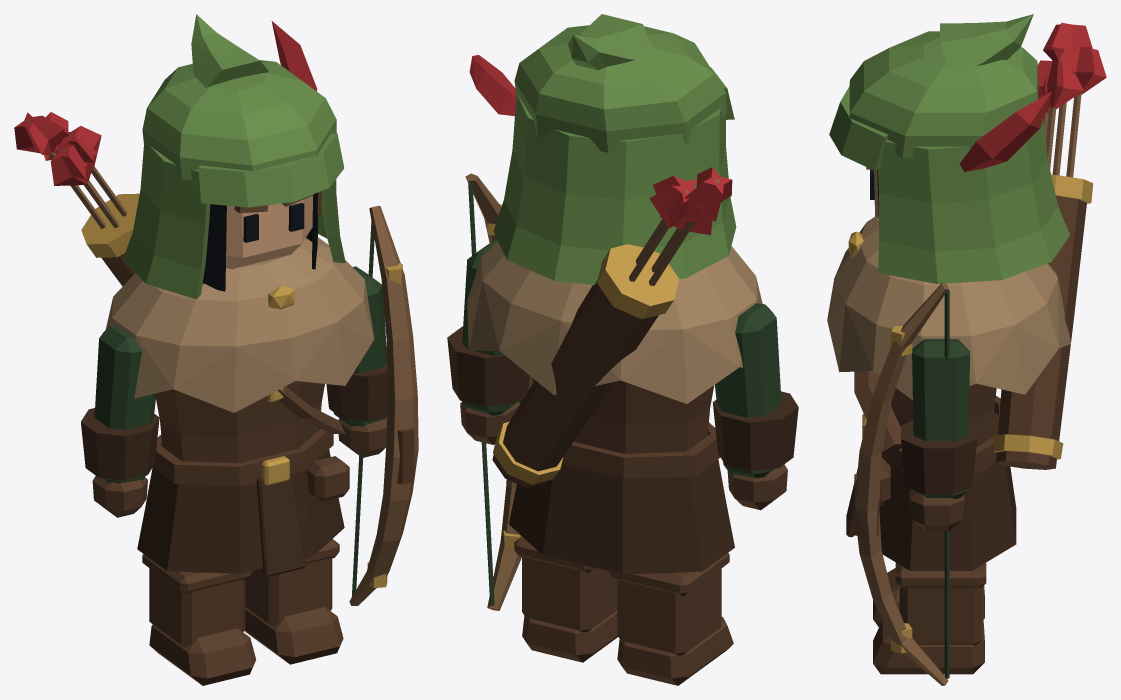
File: Ranger.fbx
3 renders of one model, left to right at view 1: azimuth 30°, elevation 25°; view 2: azimuth 150°, elevation 25°; view 3: azimuth 270°, elevation 25°, orthographic. The views are drawn at different scales.
Parts seen in each view (by area): view 1: Hood, Capelet, Tunic, RightLegBoot, Bow, Torso, LeftLegBoot, Belt, RightArm, Fletching, RightArmBracer, Head (+12 smaller); view 2: Hood, Capelet, Tunic, Quiver, RightLegBoot, LeftLegBoot, Torso, RightArm, QuiverTrim, RightArmBracer, Belt, LeftArmBracer (+8 smaller); view 3: Hood, Capelet, Tunic, LeftLegBoot, Bow, Quiver, LeftArm, LeftArmBracer, Fletching, HoodTrim, Belt, QuiverTrim (+6 smaller).
Part boxes in pixels (x1,y1,x2,y2): Hood: (123, 14, 345, 299); Capelet: (105, 237, 374, 412); Tunic: (137, 449, 344, 576); RightLegBoot: (142, 554, 256, 685); Bow: (349, 205, 418, 605); Torso: (156, 381, 324, 463); LeftLegBoot: (244, 539, 343, 664); Belt: (152, 386, 349, 501); RightArm: (94, 325, 156, 483); Fletching: (14, 112, 101, 185); RightArmBracer: (81, 408, 159, 480); Head: (226, 195, 312, 269); Hood: (493, 14, 736, 284); Capelet: (467, 241, 762, 403); Tunic: (509, 459, 734, 574); Quiver: (492, 279, 658, 487); RightLegBoot: (609, 553, 733, 685); LeftLegBoot: (514, 536, 617, 662); Torso: (532, 378, 714, 453); RightArm: (715, 303, 781, 478); QuiverTrim: (493, 244, 678, 484); RightArmBracer: (712, 391, 798, 471); Belt: (562, 422, 720, 478); LeftArmBracer: (447, 326, 529, 406); Hood: (829, 14, 1069, 284); Capelet: (827, 217, 1070, 400); Tunic: (846, 412, 1016, 570); LeftLegBoot: (873, 562, 986, 674); Bow: (855, 282, 948, 685); Quiver: (996, 195, 1086, 469); LeftArm: (912, 339, 969, 499); LeftArmBracer: (901, 420, 977, 494); Fletching: (1037, 22, 1106, 114); HoodTrim: (960, 91, 1051, 171); Belt: (854, 371, 1000, 505); QuiverTrim: (993, 174, 1093, 459).
Size of the model in its own units: 3.73 by 6.85 by 2.77.
